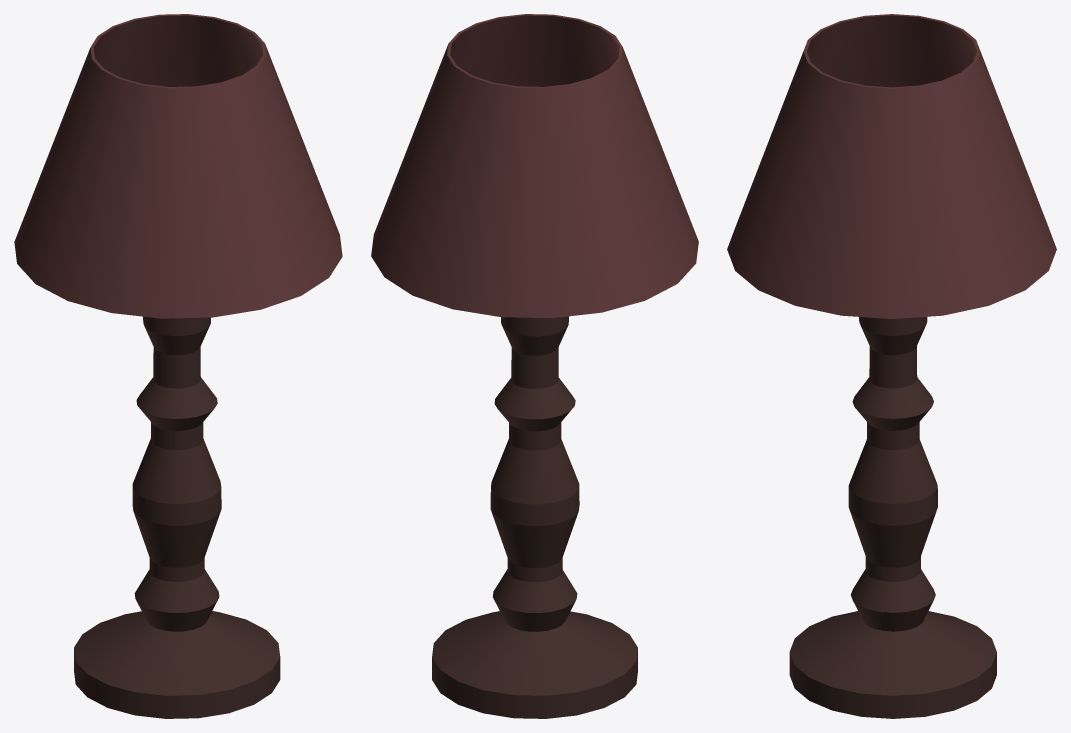
Rendered from LampeChevet1_7.fbx.
3 renders of one model, left to right at view 1: azimuth 30°, elevation 25°; view 2: azimuth 150°, elevation 25°; view 3: azimuth 270°, elevation 25°, orthographic.
Visible parts, largest first — view 1: pPipe38, pCylinder230; view 2: pPipe38, pCylinder230; view 3: pPipe38, pCylinder230.
Part boxes in pixels (x1=…): pPipe38: x1=14, y1=14, x2=342, y2=318; pCylinder230: x1=74, y1=316, x2=280, y2=718; pPipe38: x1=371, y1=14, x2=698, y2=318; pCylinder230: x1=432, y1=316, x2=637, y2=718; pPipe38: x1=727, y1=14, x2=1056, y2=318; pCylinder230: x1=789, y1=316, x2=996, y2=718.
Size of the model in its own units: 15.07 by 31.45 by 15.07.
